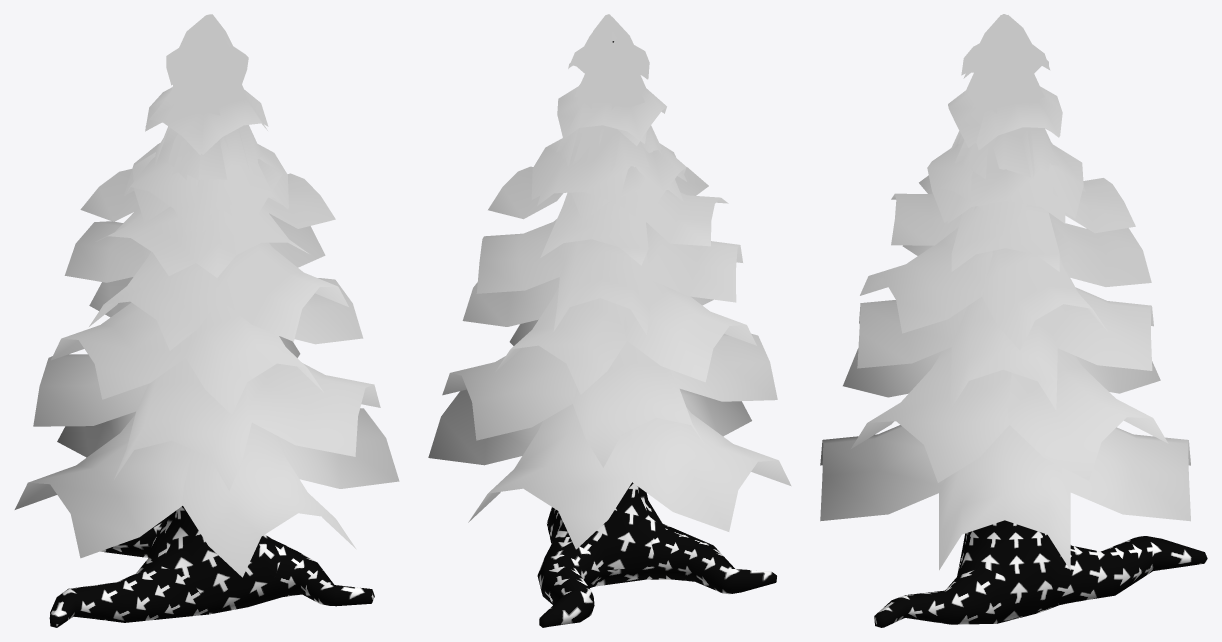
File: SM_PineTree1.fbx
The picture shows the model from 3 angles, left to right: view 1: azimuth 30°, elevation 25°; view 2: azimuth 150°, elevation 25°; view 3: azimuth 270°, elevation 25°; orthographic projection. The views are drawn at different scales.
Parts seen in each view (by area): view 1: PineLeaves1, PineTree1; view 2: PineLeaves1, PineTree1; view 3: PineLeaves1, PineTree1.
Boxes of the visible parts, x1,y1,x2,y2 form: PineLeaves1: (14, 14, 399, 577); PineTree1: (49, 506, 374, 627); PineLeaves1: (428, 14, 791, 549); PineTree1: (537, 41, 776, 627); PineLeaves1: (820, 14, 1190, 570); PineTree1: (874, 520, 1207, 627).
Size of the model in its own units: 528 by 913 by 545.
